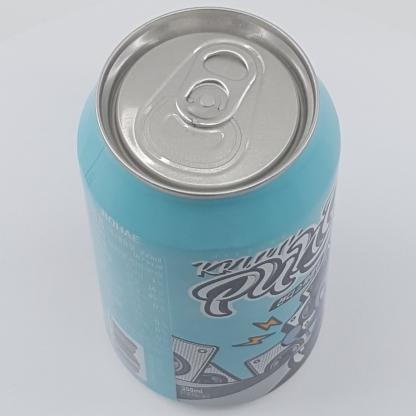-----------------350ML: (77, 6, 341, 406)
